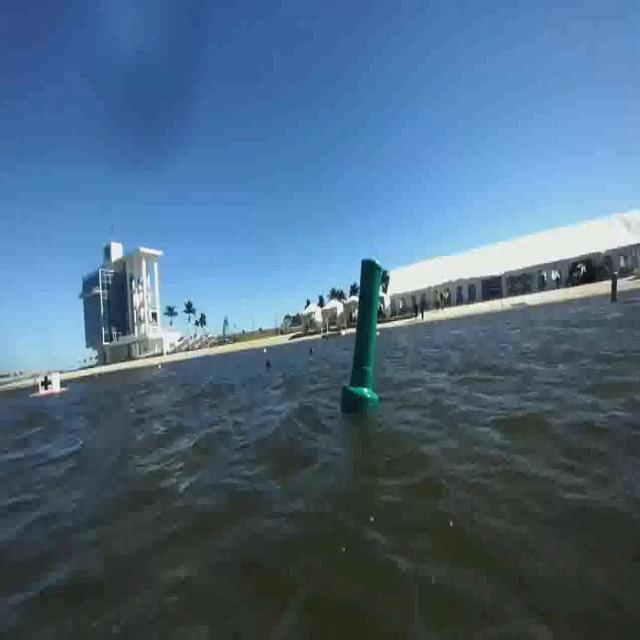green-column-buoy: (344, 256, 384, 412)
